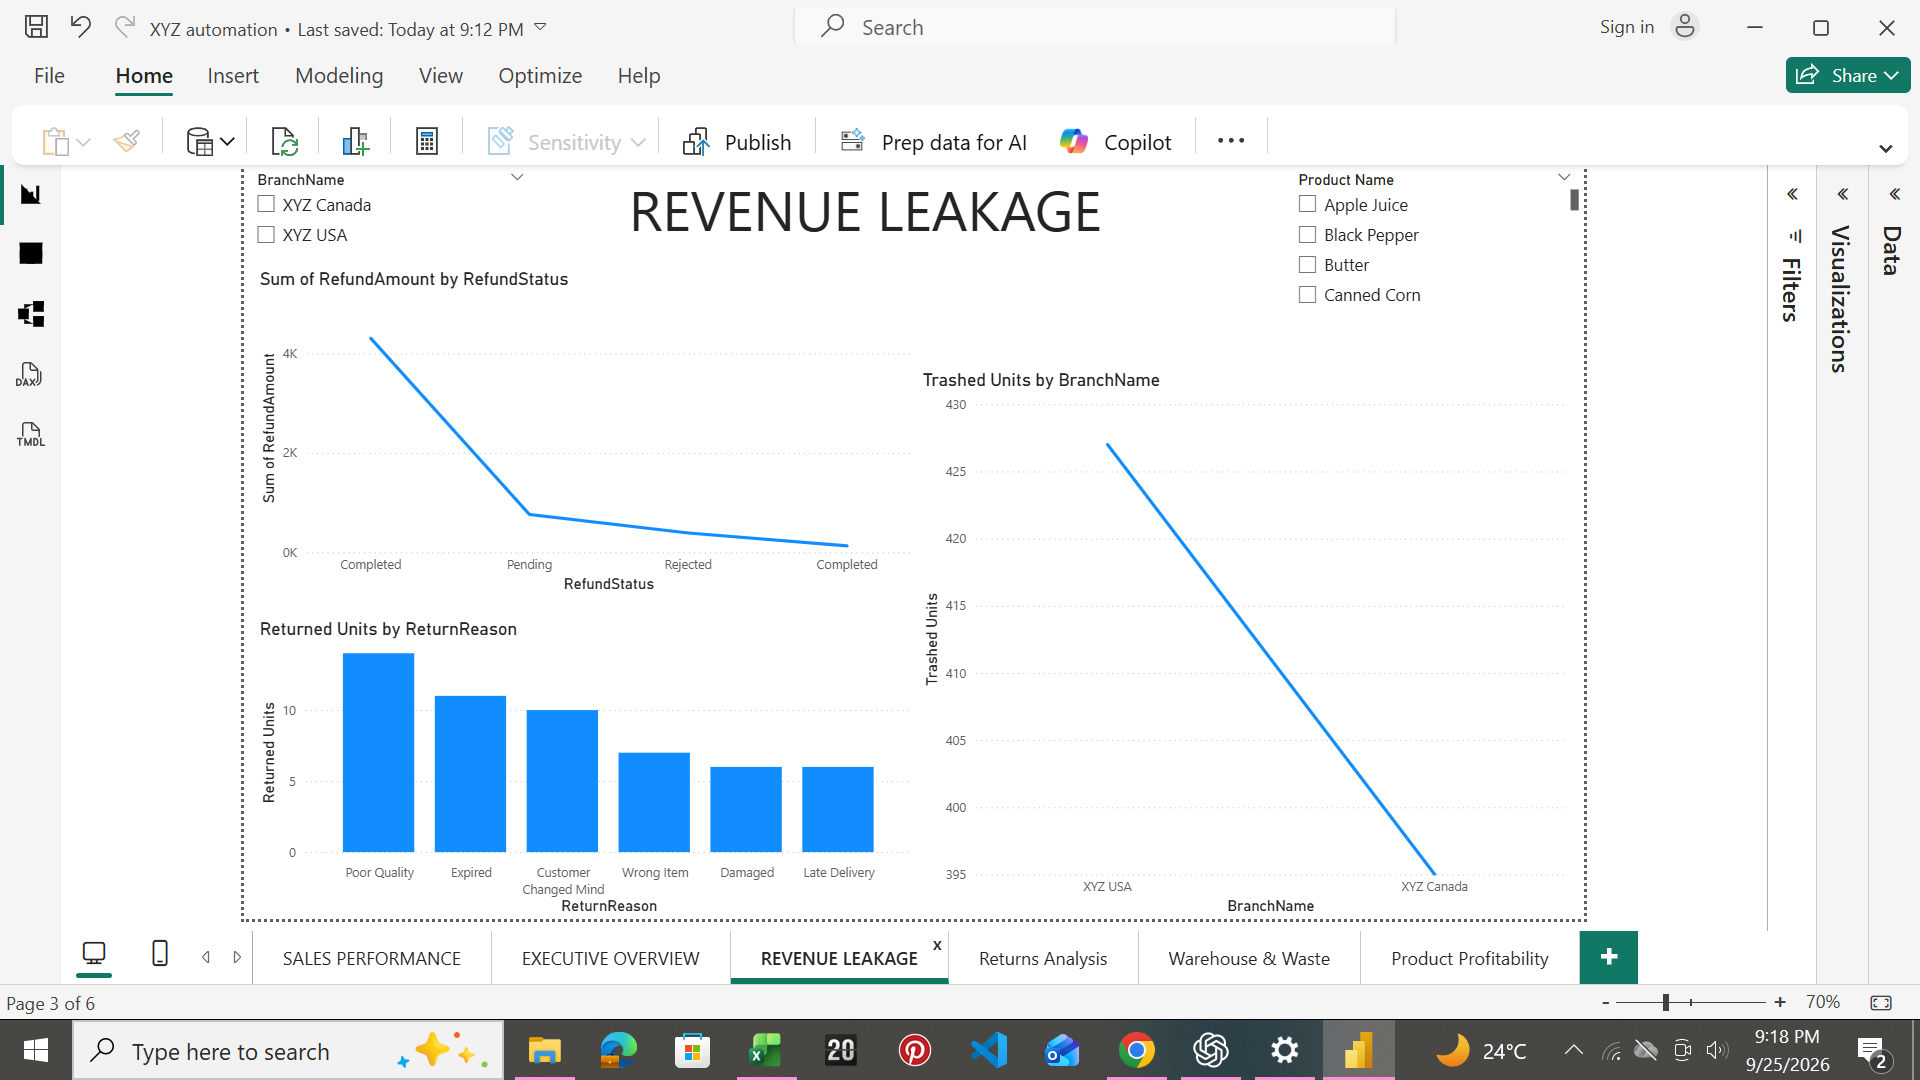

Layout of this report page (visuals, bound fields, positions):
{"tool":"powerbi","page":{"name":"REVENUE LEAKAGE","canvas":[1280,720],"ordinal":2},"visuals":[{"type":"lineChart","fields":{"Category":["stg refunds.RefundStatus"],"Y":["Sum(stg refunds.RefundAmount)"]},"box":[9.4,98.3,631.2,313.7],"z":0},{"type":"columnChart","fields":{"Y":["Table.Returned Units"],"Category":["stg returns.ReturnReason"]},"box":[9.4,432.8,633.1,287.2],"z":2},{"type":"slicer","fields":{"Values":["stg branches.BranchName"]},"box":[0,0,279.7,98.3],"z":3},{"type":"slicer","fields":{"Values":["stg order_items.Product Name"]},"box":[994,0,285.4,143.6],"z":4},{"type":"lineChart","fields":{"Category":["stg branches.BranchName"],"Y":["Table.Trashed Units"]},"box":[642.5,194.6,623.6,525.4],"z":5},{"type":"textbox","box":[362.8,0,631.2,86.9],"z":6}]}

Visuals, with their boxes on the page's 1280x720 design canvas (x1, y1, x2, y2). These are canvas units, not pixel positions in the 1920x1080 screenshot, which may show the page scaled, cropped or inside an application window:
lineChart - stg refunds.RefundStatus x Sum(stg refunds.RefundAmount): pyautogui.locateOnScreen(9, 98, 641, 412)
columnChart - Table.Returned Units x stg returns.ReturnReason: pyautogui.locateOnScreen(9, 433, 642, 720)
slicer - stg branches.BranchName: pyautogui.locateOnScreen(0, 0, 280, 98)
slicer - stg order_items.Product Name: pyautogui.locateOnScreen(994, 0, 1279, 144)
lineChart - stg branches.BranchName x Table.Trashed Units: pyautogui.locateOnScreen(642, 195, 1266, 720)
textbox: pyautogui.locateOnScreen(363, 0, 994, 87)
